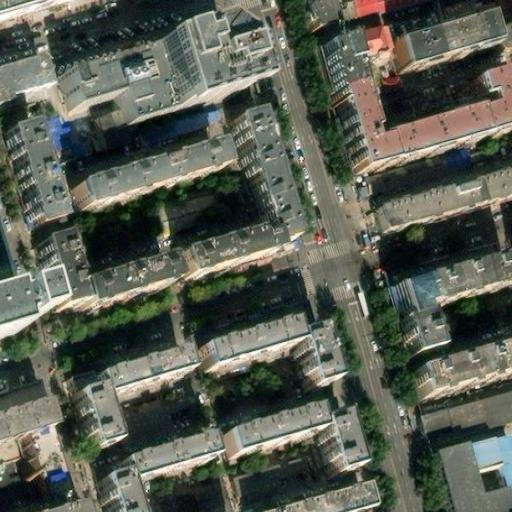building: (371, 78, 505, 177), (77, 354, 184, 454), (214, 406, 356, 477), (195, 328, 333, 401), (23, 232, 156, 306), (61, 143, 206, 207), (308, 60, 380, 188), (97, 433, 204, 512), (239, 134, 301, 269), (136, 30, 232, 116), (52, 46, 155, 126), (361, 180, 478, 236), (190, 303, 311, 352), (384, 232, 503, 280), (413, 247, 512, 304), (415, 346, 512, 404), (384, 5, 482, 62), (71, 345, 176, 398), (419, 390, 512, 441), (0, 128, 45, 231), (171, 238, 263, 284), (135, 104, 222, 152), (389, 273, 433, 351), (122, 400, 193, 445), (233, 464, 308, 503), (436, 456, 484, 512), (43, 115, 94, 164), (30, 424, 68, 486), (0, 48, 45, 98), (0, 402, 52, 438), (469, 161, 512, 204), (346, 29, 387, 72), (279, 491, 361, 512), (161, 487, 219, 512), (469, 448, 504, 489), (481, 13, 512, 51), (494, 443, 512, 499), (480, 0, 512, 21)
